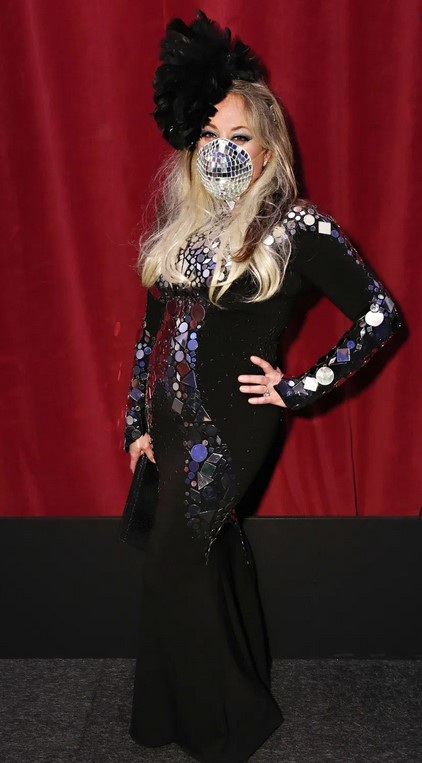face_with_mask: (162, 21, 273, 204)
